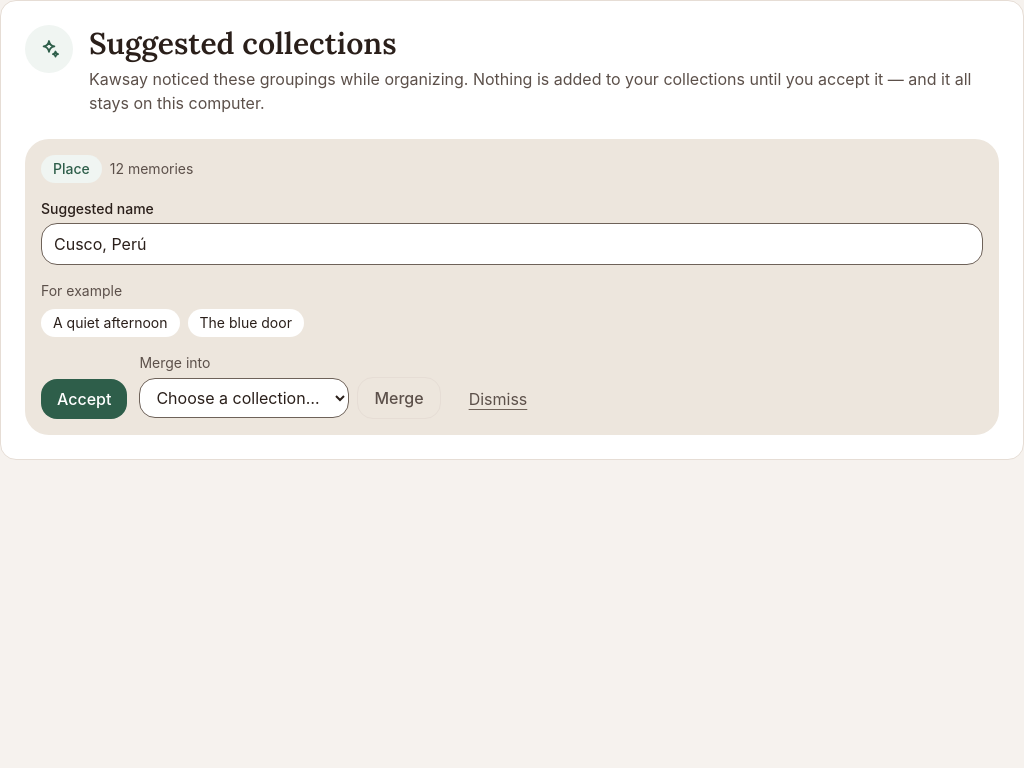
Test: SuggestionsTray — a failed curation action surfaces a calm, non-blocking notice (#351 #5, #408) › shows a gentle status message and keeps the card when merge rejects
Select "Our trips" in the dropdown labelled "Merge into". click: (244, 398)
box: [139,378,349,418]
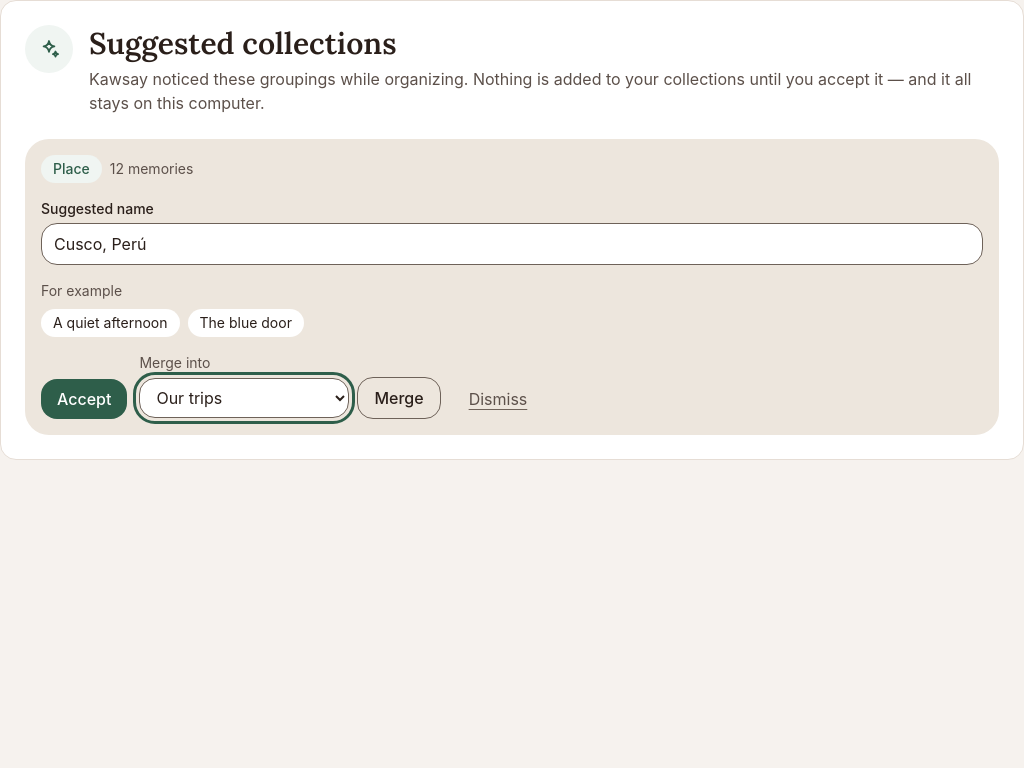
Click the button "Merge". click: (399, 398)
box: [357,376,441,418]
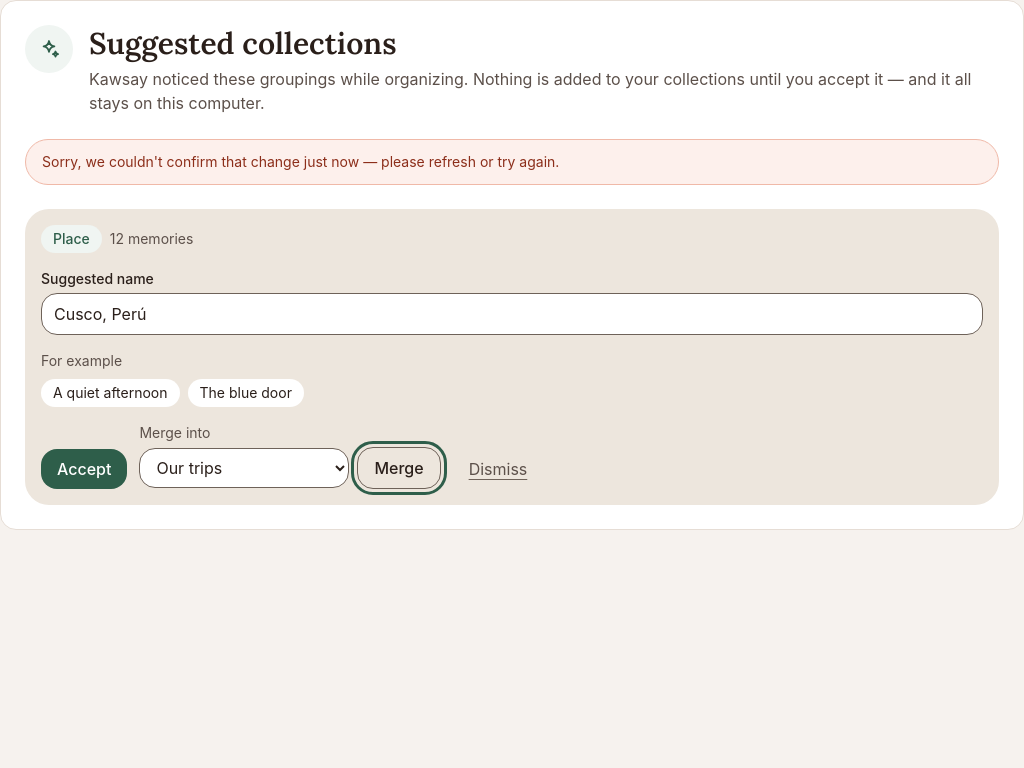
Expected: the list item is shown, [25,208,999,504]
Expected: the message shows "refresh or try again", [42,152,559,170]
